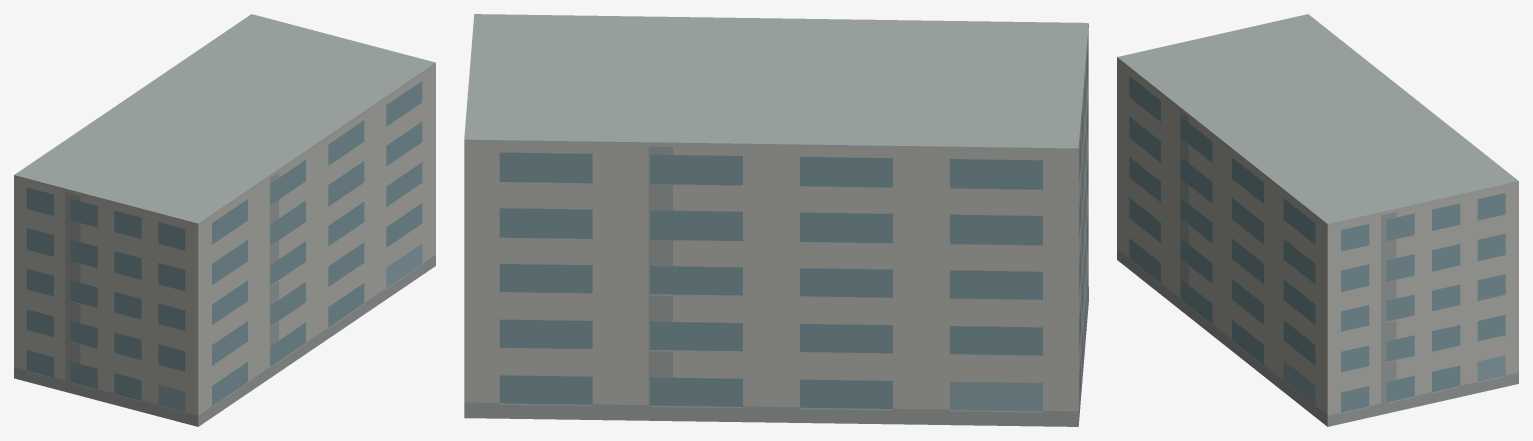
Rendered from residential-5b5dbe59-f4ca-40e5-bb3e-c311637d6064.glb.
The picture shows the model from 3 angles, left to right: view 1: azimuth 30°, elevation 25°; view 2: azimuth 150°, elevation 25°; view 3: azimuth 270°, elevation 25°; orthographic projection. The views are drawn at different scales.
Visible parts, largest first — view 1: residential-5b5dbe59-f4ca-40e5-bb3e-c311637d6064.tmp; view 2: residential-5b5dbe59-f4ca-40e5-bb3e-c311637d6064.tmp; view 3: residential-5b5dbe59-f4ca-40e5-bb3e-c311637d6064.tmp.
Part boxes in pixels (box(x1,y1,x2,y2)): residential-5b5dbe59-f4ca-40e5-bb3e-c311637d6064.tmp: box(14, 14, 435, 426); residential-5b5dbe59-f4ca-40e5-bb3e-c311637d6064.tmp: box(464, 14, 1088, 426); residential-5b5dbe59-f4ca-40e5-bb3e-c311637d6064.tmp: box(1117, 14, 1518, 426).
Bounding box in the file's own units: 33.88 × 15.25 × 27.38.
